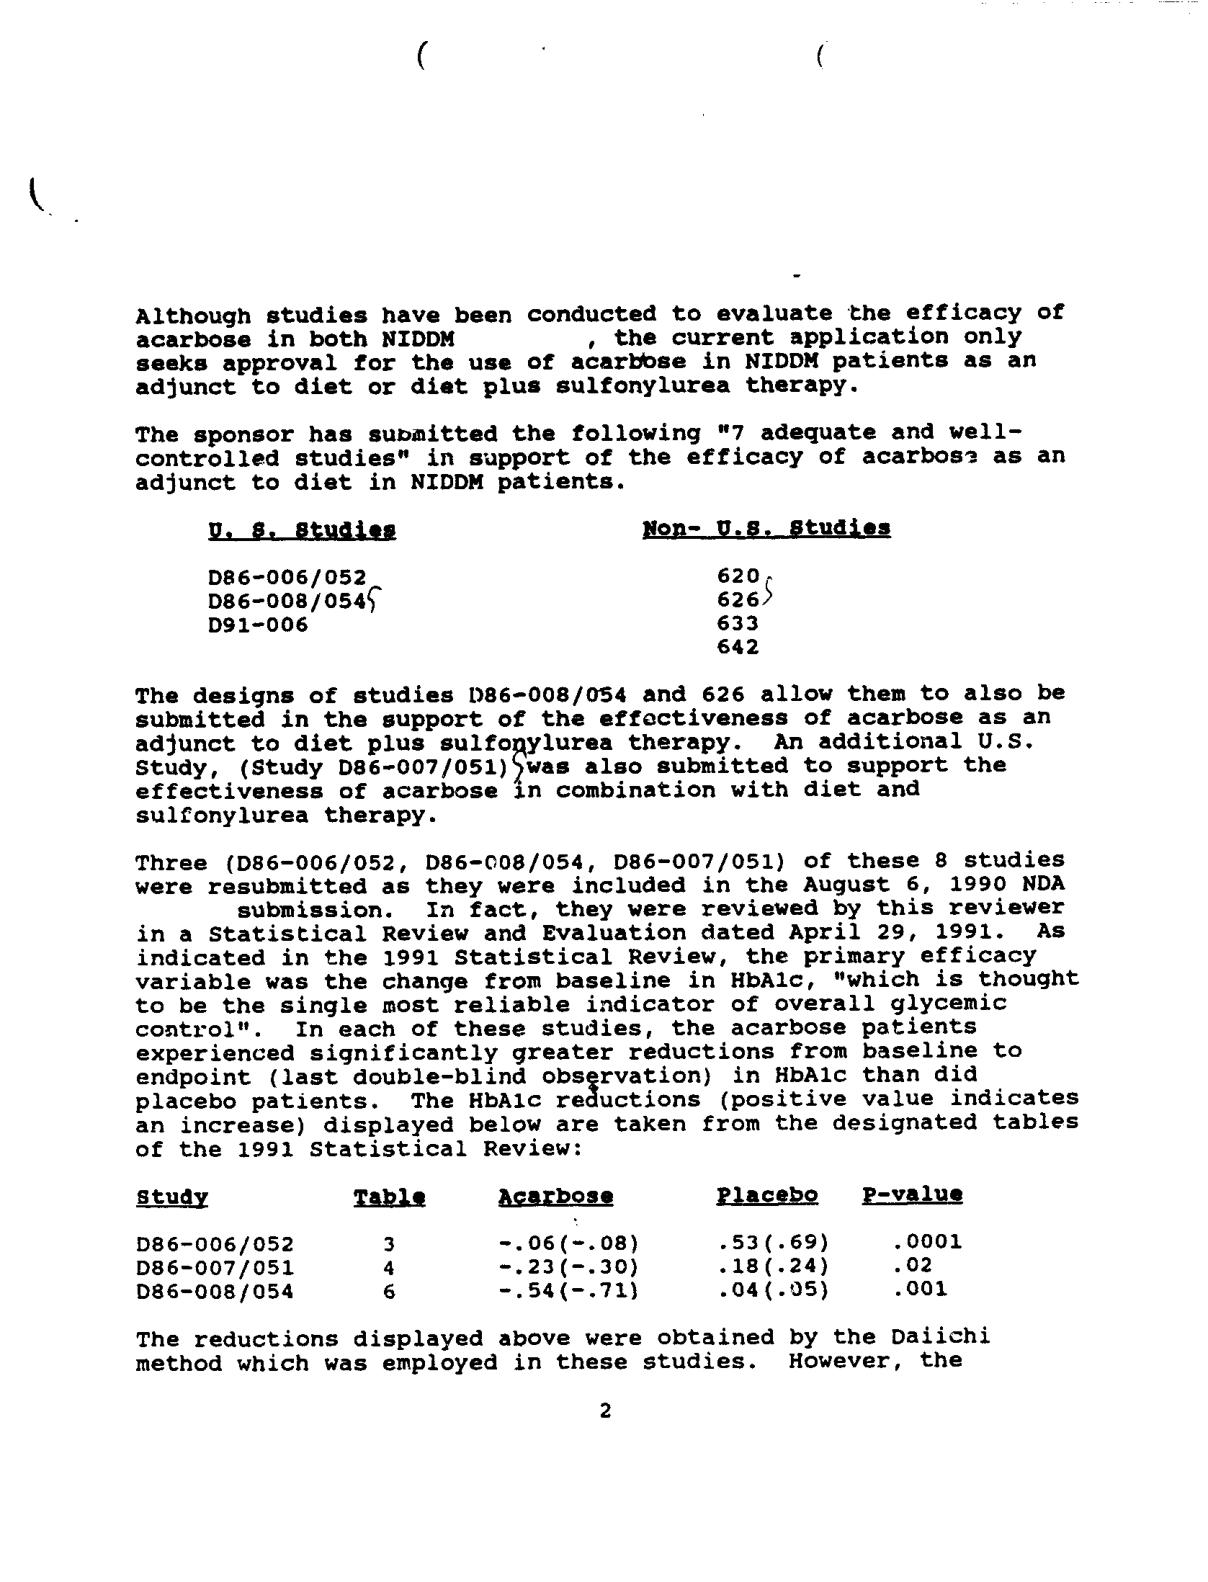nolines: (133, 1185, 966, 1303), (203, 518, 890, 656)
